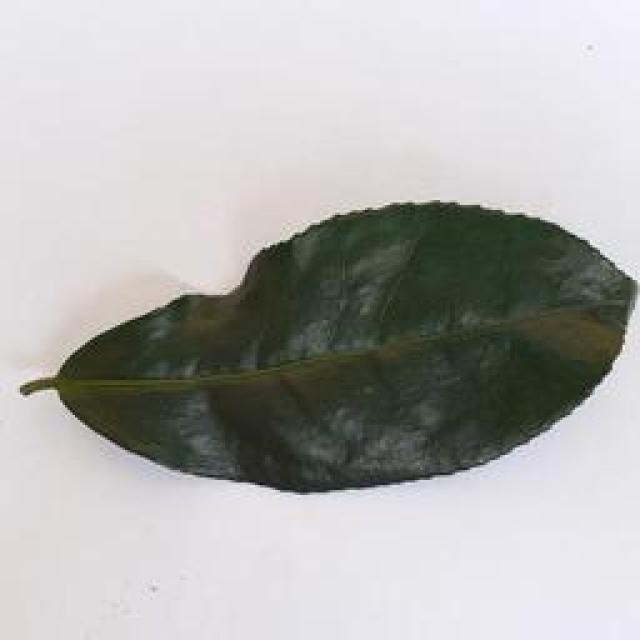Healthy: (14, 205, 629, 490)
